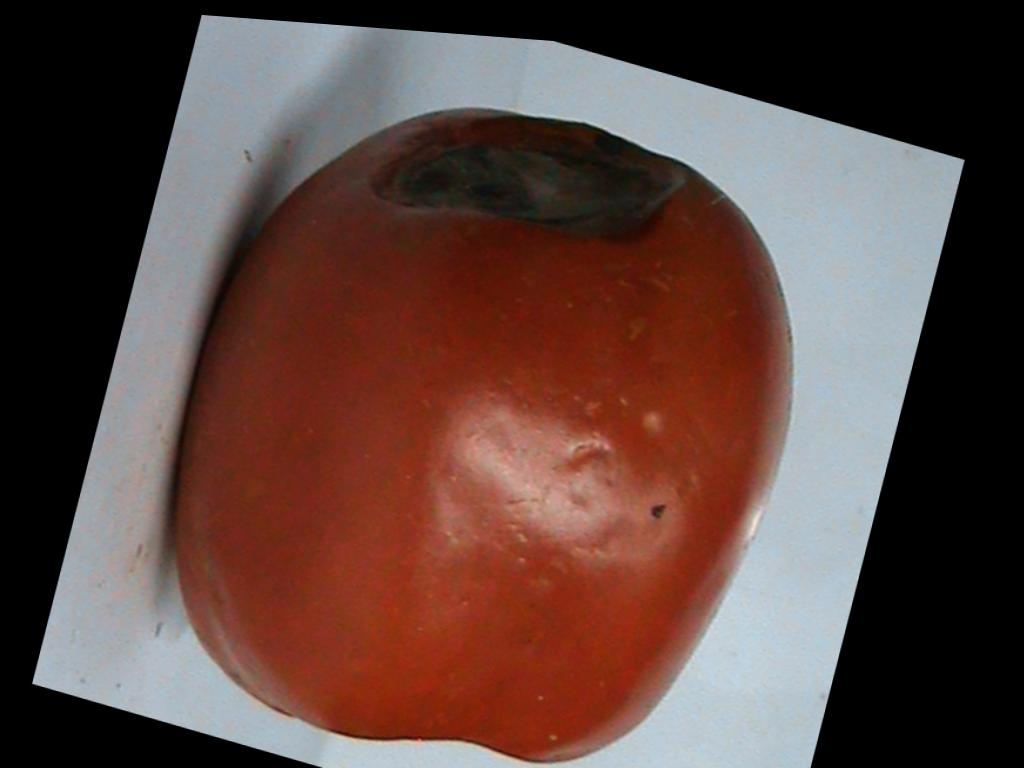rot_mold_decay: (381, 122, 679, 234)
tomato: (176, 107, 791, 761)
